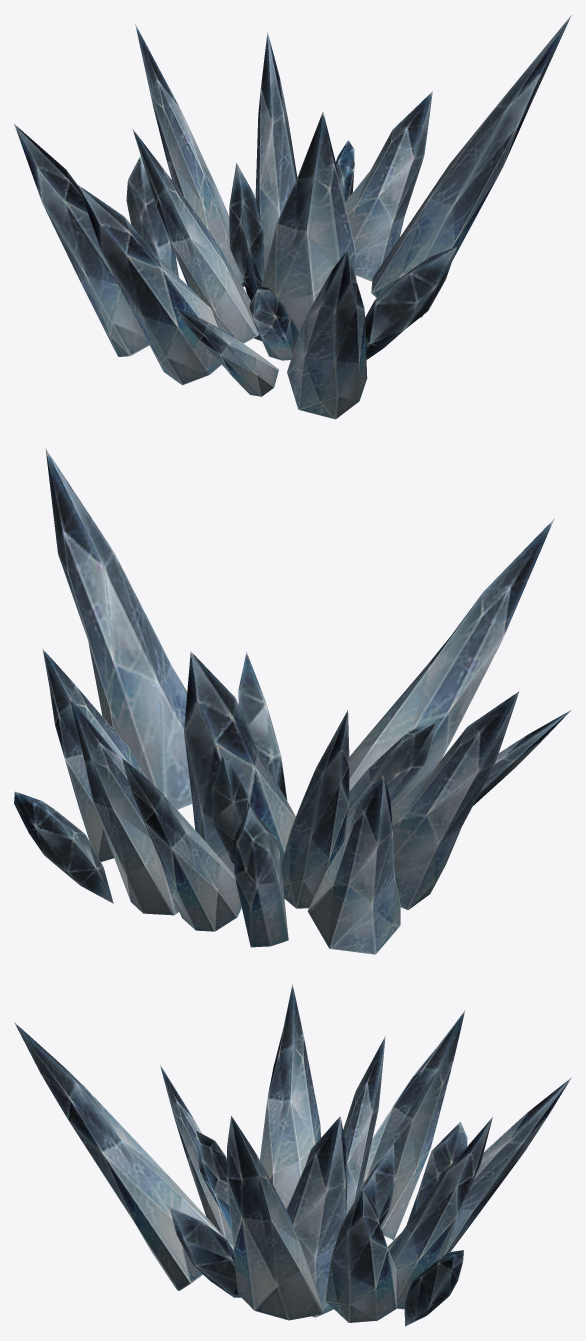
File: icespikes.fbx
3 renders of one model, top to bottom at view 1: azimuth 30°, elevation 25°; view 2: azimuth 150°, elevation 25°; view 3: azimuth 270°, elevation 25°, orthographic. The views are drawn at different scales.
Parts seen in each view (by area): view 1: VFX_Mesh_Object101; view 2: VFX_Mesh_Object101; view 3: VFX_Mesh_Object101.
Part boxes in pixels (<box>): VFX_Mesh_Object101: <box>14,15,571,419</box>; VFX_Mesh_Object101: <box>14,449,571,954</box>; VFX_Mesh_Object101: <box>14,984,571,1326</box>.
Bounding box in the file's own units: 1.09 × 0.7212 × 1.24.
Materials: 1 (1 with a texture image).
